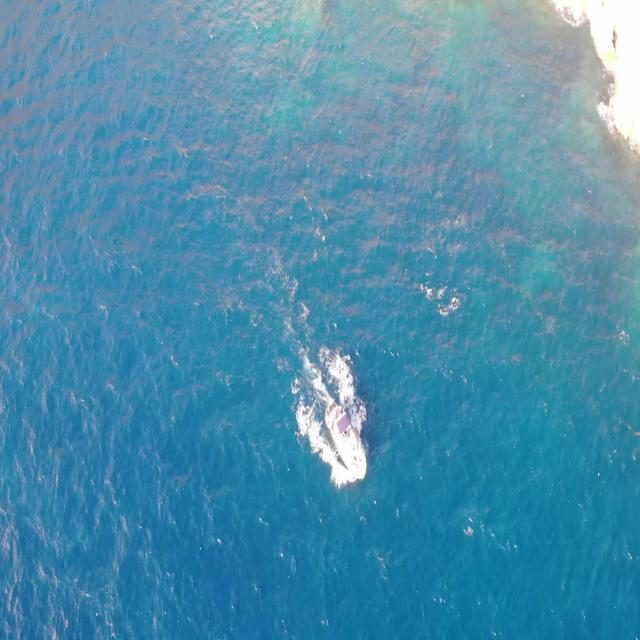boat: (324, 398, 368, 481)
